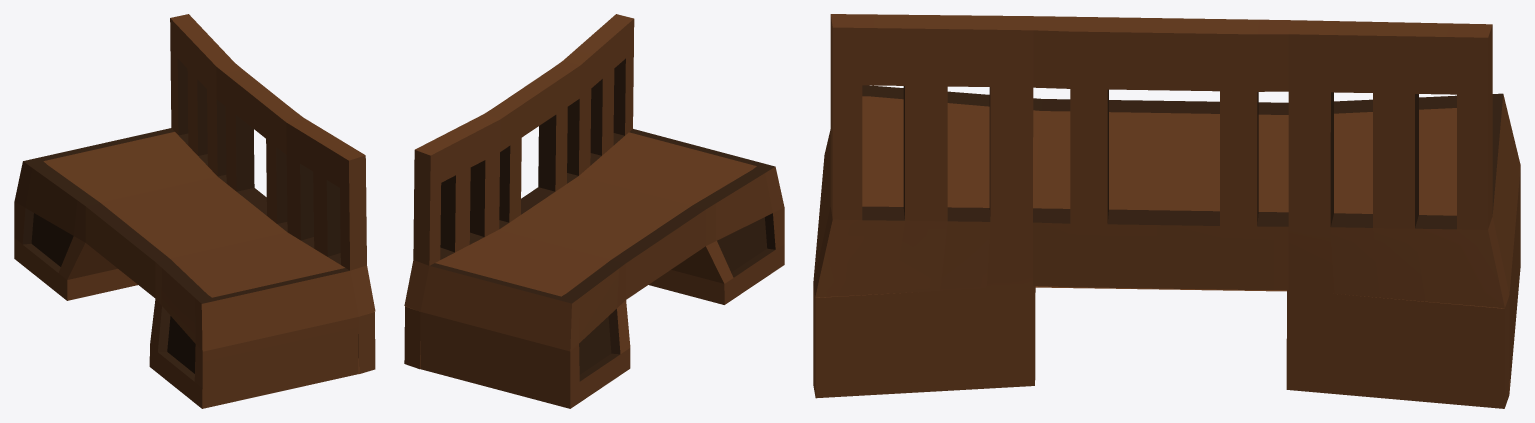
The model's file is BenchColoredblend.fbx.
3 renders of one model, left to right at view 1: azimuth 30°, elevation 25°; view 2: azimuth 150°, elevation 25°; view 3: azimuth 270°, elevation 25°, orthographic. The views are drawn at different scales.
Visible parts, largest first — view 1: Cube; view 2: Cube; view 3: Cube.
Part boxes in pixels (x1=…): Cube: x1=14, y1=14, x2=375, y2=408; Cube: x1=404, y1=14, x2=784, y2=408; Cube: x1=813, y1=14, x2=1520, y2=408.
Size of the model in its own units: 240 by 265 by 462.
